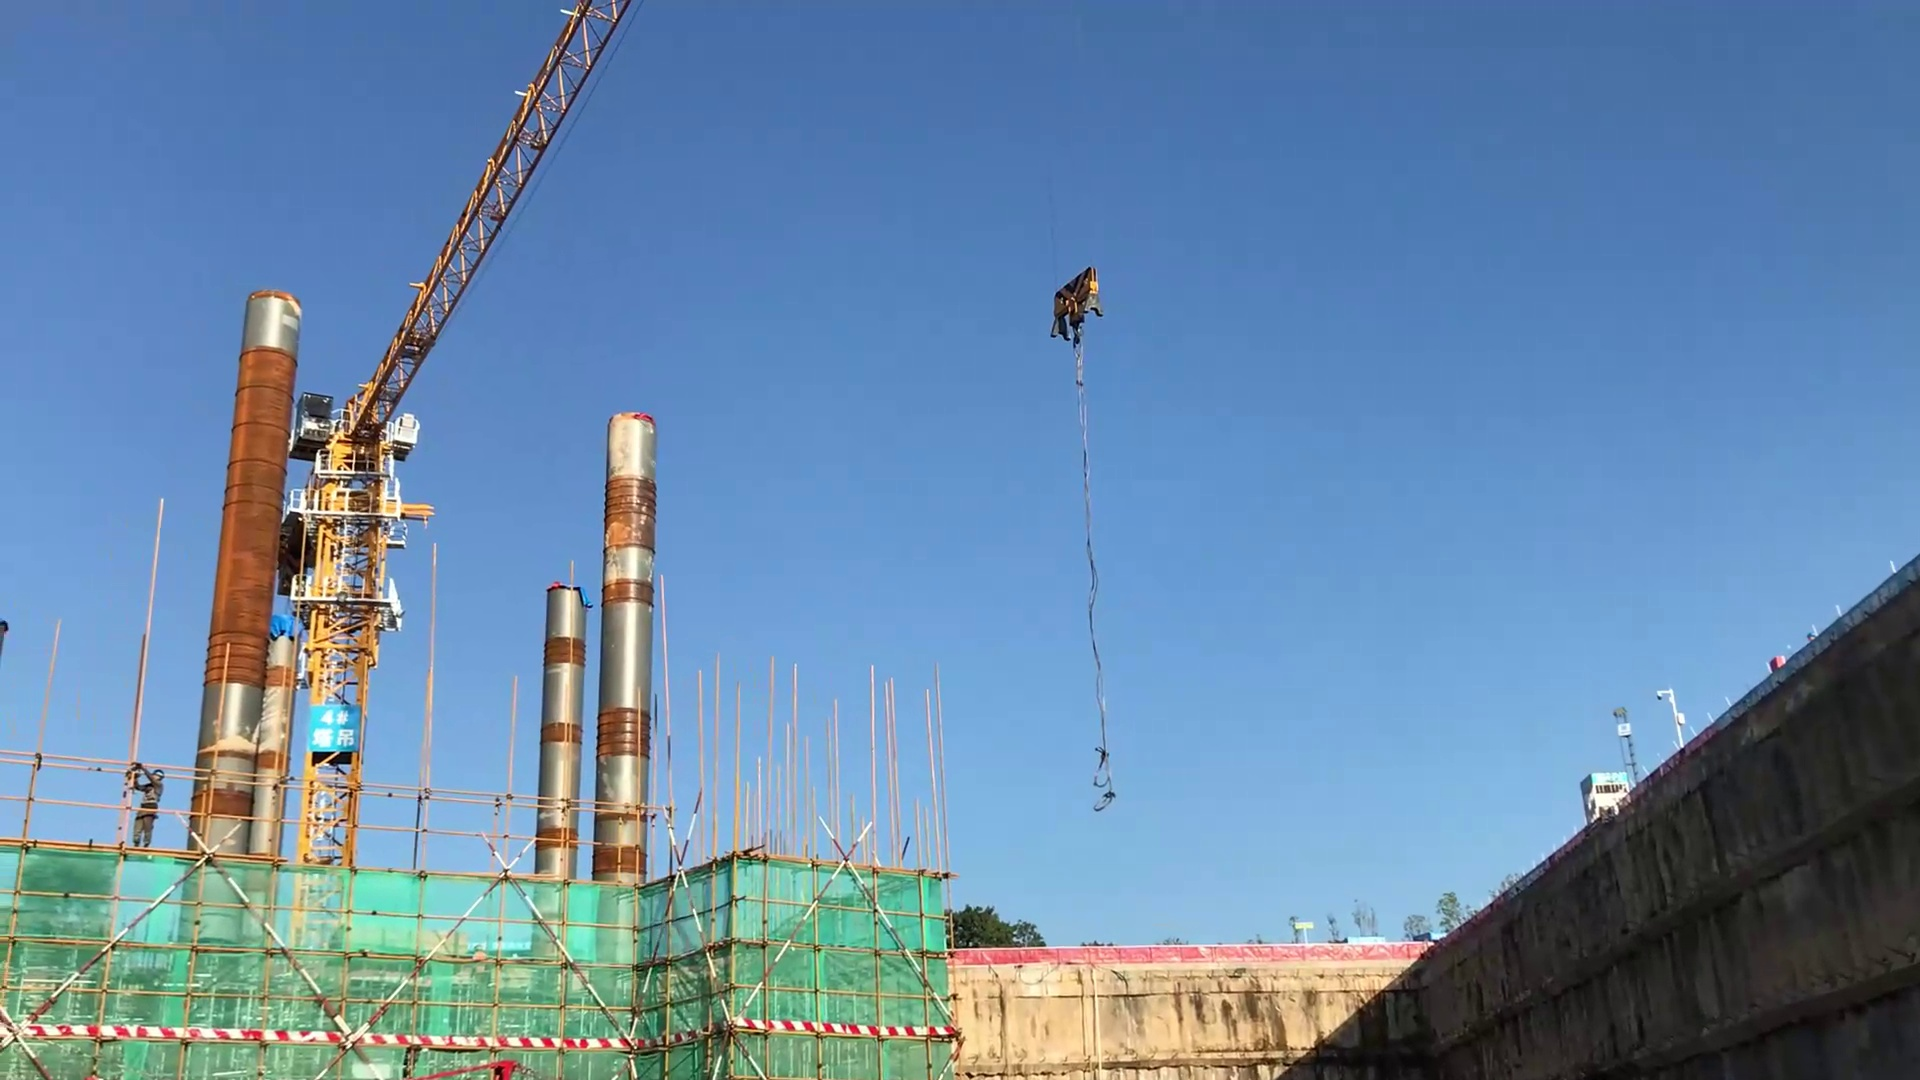helmet: (150, 765, 168, 778)
hook: (1040, 266, 1103, 348)
person: (121, 752, 169, 855)
vest: (133, 785, 163, 811)
